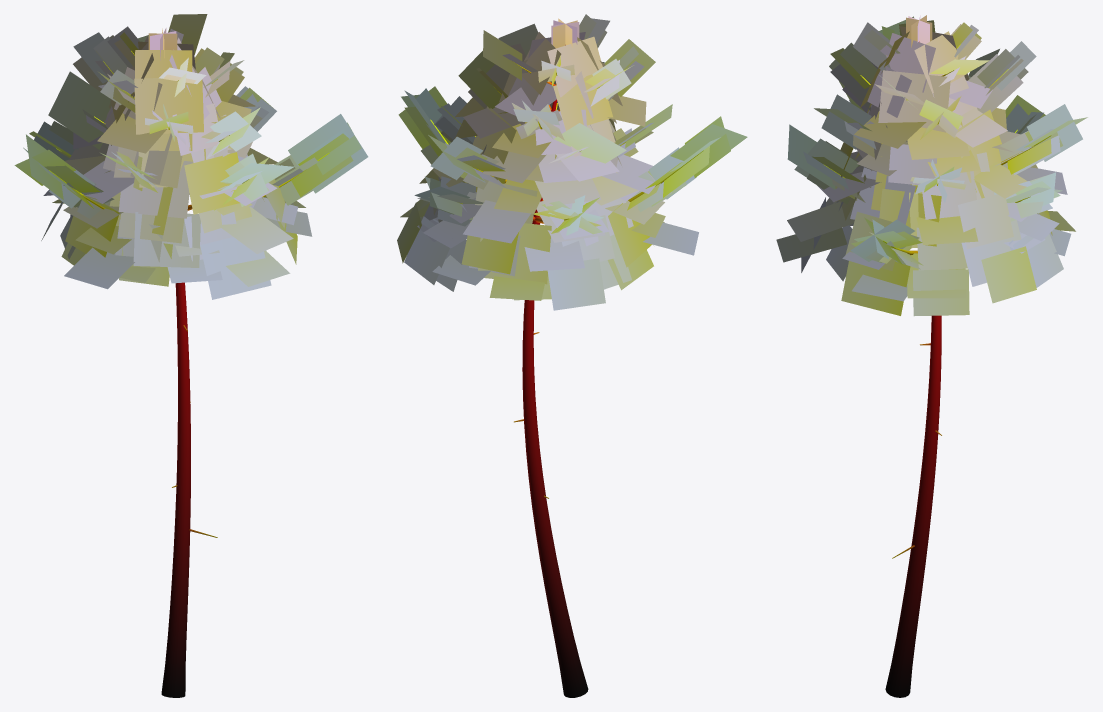
The model's file is akamatsu_3.glb.
3 renders of one model, left to right at view 1: azimuth 30°, elevation 25°; view 2: azimuth 150°, elevation 25°; view 3: azimuth 270°, elevation 25°, orthographic. The views are drawn at different scales.
Visible parts, largest first — view 1: akamatsu_3_lod0; view 2: akamatsu_3_lod0; view 3: akamatsu_3_lod0.
Part boxes in pixels (<box>): akamatsu_3_lod0: <box>14,14,368,697</box>; akamatsu_3_lod0: <box>397,14,747,697</box>; akamatsu_3_lod0: <box>776,15,1087,697</box>.
Size of what is drawn, in the model's own units: 9.92 by 18.75 by 7.89.
